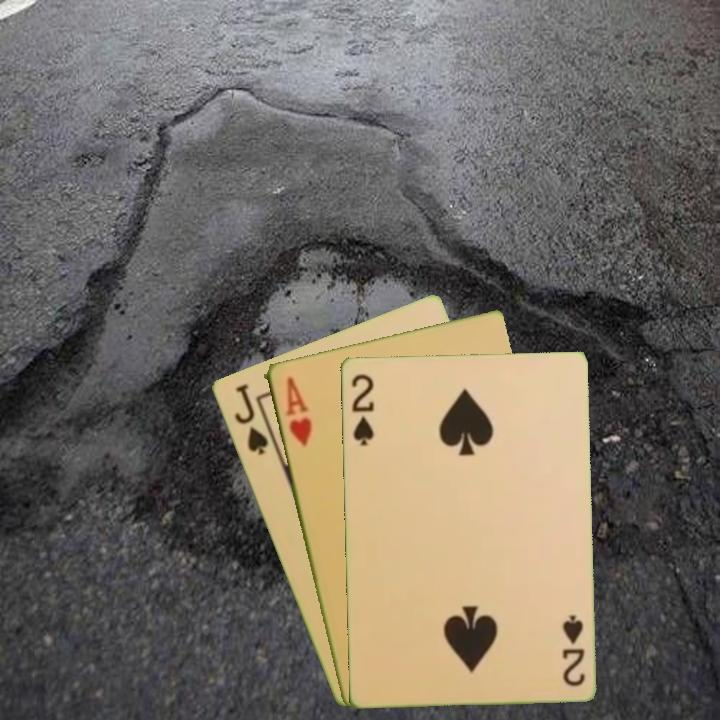2s: (347, 370, 376, 449), (559, 611, 587, 689)
Ah: (281, 373, 314, 449)
Js: (230, 380, 271, 458)
